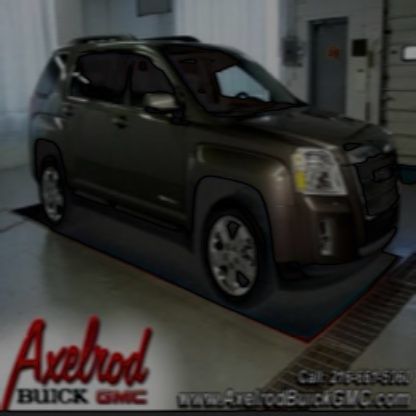Vehicle: (28, 32, 404, 316)
